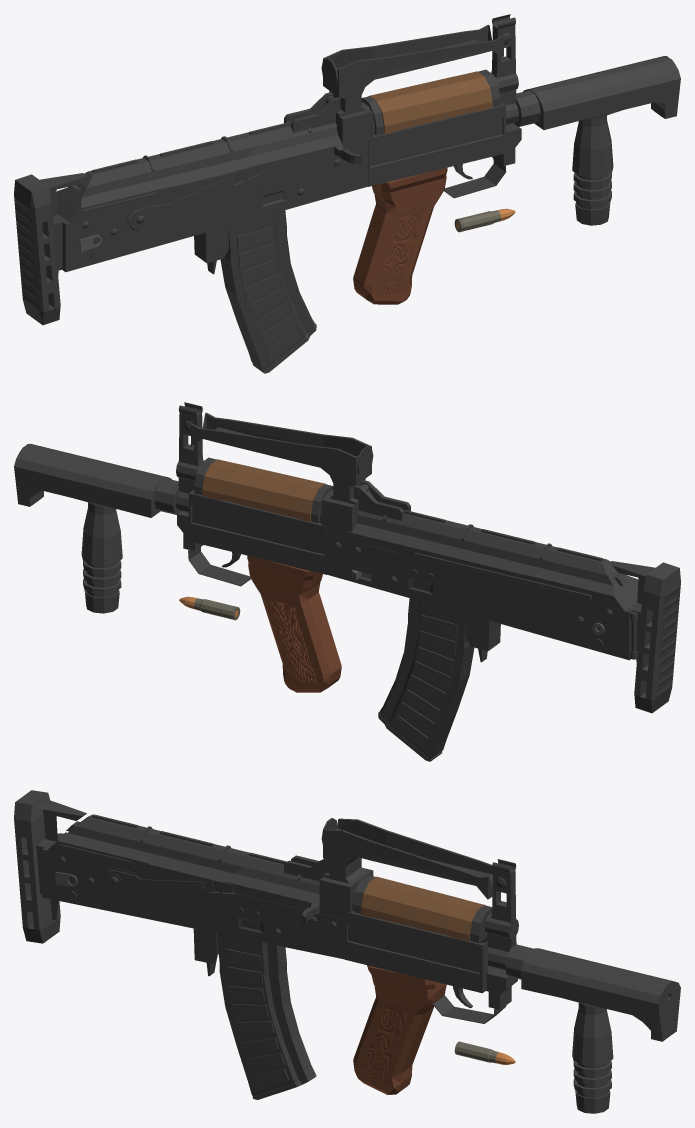
File: low_poly_ots-14_groza_thunderstorm.glb
The picture shows the model from 3 angles, top to bottom: view 1: azimuth 30°, elevation 25°; view 2: azimuth 150°, elevation 25°; view 3: azimuth 330°, elevation 25°; orthographic projection.
Parts seen in each view (by area): view 1: Reciever, Foregripattachment, dustcover, 9x39steelmag, Carryhandle, Grip, Forewardtriggergroup, Sidefolder, upperhandguard, boltcarrier, safetyselector, Magreleaseholder (+3 smaller); view 2: dustcover, Reciever, Foregripattachment, Carryhandle, 9x39steelmag, Grip, Forewardtriggergroup, Sidefolder, upperhandguard, Magreleaseholder, triggerguard, 9x39; view 3: Foregripattachment, Reciever, Carryhandle, 9x39steelmag, dustcover, Grip, Forewardtriggergroup, Sidefolder, upperhandguard, safetyselector, boltcarrier, Fronttriggergroupholder (+4 smaller).
Boxes of the visible parts, x1,y1,x2,y2 form: Reciever: (54, 147, 367, 272); Foregripattachment: (513, 56, 680, 225); dustcover: (56, 92, 340, 223); 9x39steelmag: (220, 210, 316, 373); Carryhandle: (321, 14, 519, 151); Grip: (353, 168, 447, 304); Forewardtriggergroup: (368, 101, 505, 186); Sidefolder: (14, 173, 86, 325); upperhandguard: (368, 71, 492, 133); boltcarrier: (233, 127, 361, 173); safetyselector: (126, 166, 259, 232); Magreleaseholder: (194, 226, 228, 263); dustcover: (348, 480, 638, 611); Reciever: (326, 535, 640, 660); Foregripattachment: (14, 443, 181, 613); Carryhandle: (175, 402, 402, 553); 9x39steelmag: (378, 598, 474, 761); Grip: (247, 555, 341, 692); Forewardtriggergroup: (188, 489, 326, 574); Sidefolder: (608, 561, 680, 713); upperhandguard: (202, 459, 326, 521); Magreleaseholder: (466, 614, 500, 651); triggerguard: (188, 547, 250, 586); 9x39: (179, 596, 240, 620); Foregripattachment: (505, 944, 680, 1113); Reciever: (42, 832, 344, 959); Carryhandle: (319, 818, 518, 970); 9x39steelmag: (217, 933, 316, 1099); dustcover: (46, 814, 329, 885); Grip: (353, 965, 446, 1094); Forewardtriggergroup: (344, 911, 487, 993); Sidefolder: (14, 790, 86, 943); upperhandguard: (361, 876, 485, 941); safetyselector: (102, 864, 234, 894); boltcarrier: (221, 867, 319, 925); Fronttriggergroupholder: (486, 966, 517, 1009).
Bounding box in the file's own units: 2.92 × 1.26 × 0.3354.
